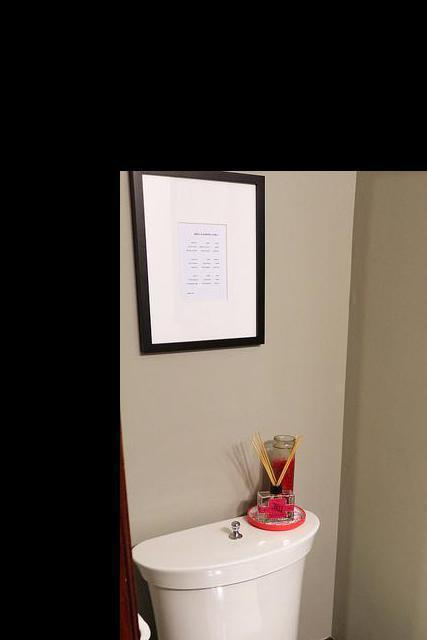Sanitario: (135, 526, 408, 640)
